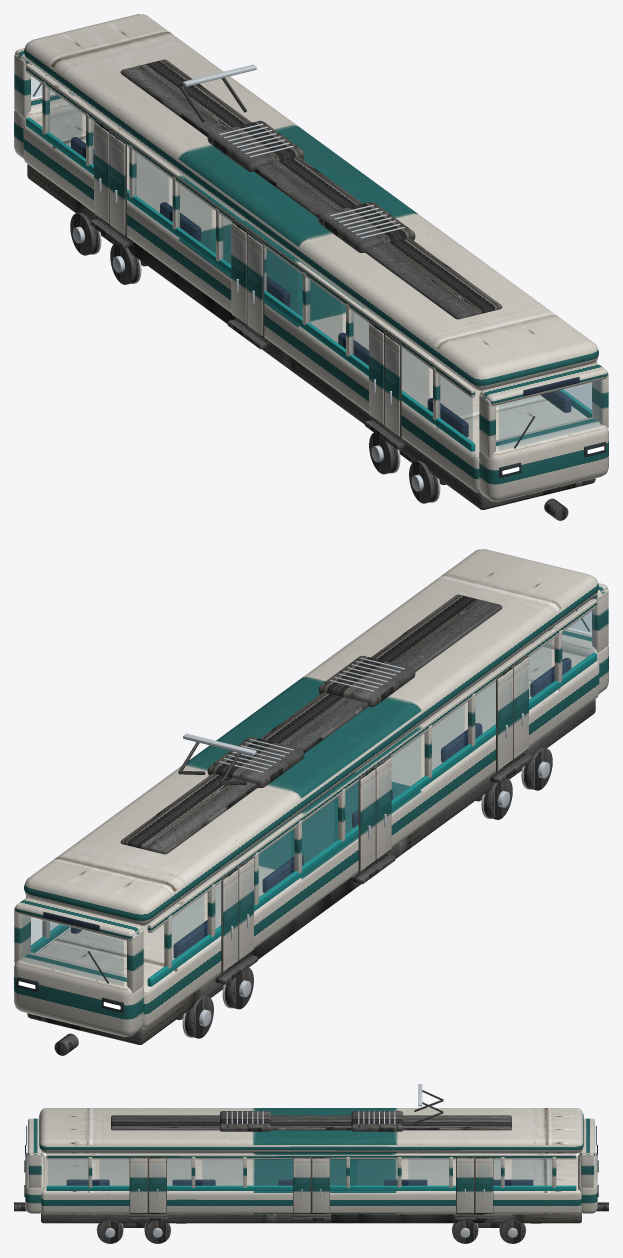
File: train.glb
The picture shows the model from 3 angles, top to bottom: view 1: azimuth 30°, elevation 25°; view 2: azimuth 150°, elevation 25°; view 3: azimuth 270°, elevation 25°; orthographic projection. The views are drawn at different scales.
Visible parts, largest first — view 1: Upper curved roof, Lower passenger body, Roof spine, Cab lower nose, Underframe, Upper side rail, Cab windshield, Window lower sill, Roof ventilation, Roof ventilation.001, Cab brow, Window glass.004 (+21 smaller); view 2: Upper curved roof, Lower passenger body, Roof spine, Cab lower nose.001, Underframe, Upper side rail, Cab windshield.001, Window lower sill, Roof ventilation, Roof ventilation.001, Cab brow.001, Door leaf.002 (+21 smaller); view 3: Lower passenger body, Upper curved roof, Roof spine, Underframe, Upper side rail.001, Window lower sill.001, Window glass.010, Window glass.013, Window glass.016, Window glass.017, Window glass.019, Roof ventilation.001 (+30 smaller).
Boxes of the visible parts, <box> form: Upper curved roof: <box>24,14,598,390</box>; Lower passenger body: <box>23,109,585,492</box>; Roof spine: <box>120,59,502,319</box>; Cab lower nose: <box>479,417,608,501</box>; Underframe: <box>27,164,595,509</box>; Upper side rail: <box>26,64,475,397</box>; Cab windshield: <box>499,380,601,450</box>; Window lower sill: <box>26,117,475,451</box>; Roof ventilation: <box>318,202,415,252</box>; Roof ventilation.001: <box>207,120,304,171</box>; Cab brow: <box>480,363,607,405</box>; Window glass.004: <box>264,247,299,314</box>; Upper curved roof: <box>24,549,598,925</box>; Lower passenger body: <box>37,644,599,1027</box>; Roof spine: <box>120,594,502,854</box>; Cab lower nose.001: <box>14,952,143,1036</box>; Underframe: <box>27,699,595,1044</box>; Upper side rail: <box>147,599,596,932</box>; Cab windshield.001: <box>21,915,123,985</box>; Window lower sill: <box>147,652,596,986</box>; Roof ventilation: <box>318,655,415,706</box>; Roof ventilation.001: <box>207,737,304,787</box>; Cab brow.001: <box>15,898,142,940</box>; Door leaf.002: <box>376,758,391,859</box>; Lower passenger body: <box>41,1156,581,1213</box>; Upper curved roof: <box>39,1108,583,1153</box>; Roof spine: <box>111,1115,511,1130</box>; Underframe: <box>41,1213,581,1223</box>; Upper side rail.001: <box>46,1153,576,1159</box>; Window lower sill.001: <box>46,1185,576,1190</box>; Window glass.010: <box>48,1159,88,1185</box>; Window glass.013: <box>202,1159,242,1185</box>; Window glass.016: <box>357,1159,397,1185</box>; Window glass.017: <box>408,1159,448,1185</box>; Window glass.019: <box>512,1159,551,1185</box>; Roof ventilation.001: <box>351,1111,402,1131</box>.
Size of the model in its own units: 3.25 by 5.11 by 20.78.
9 materials, 4 textured.
